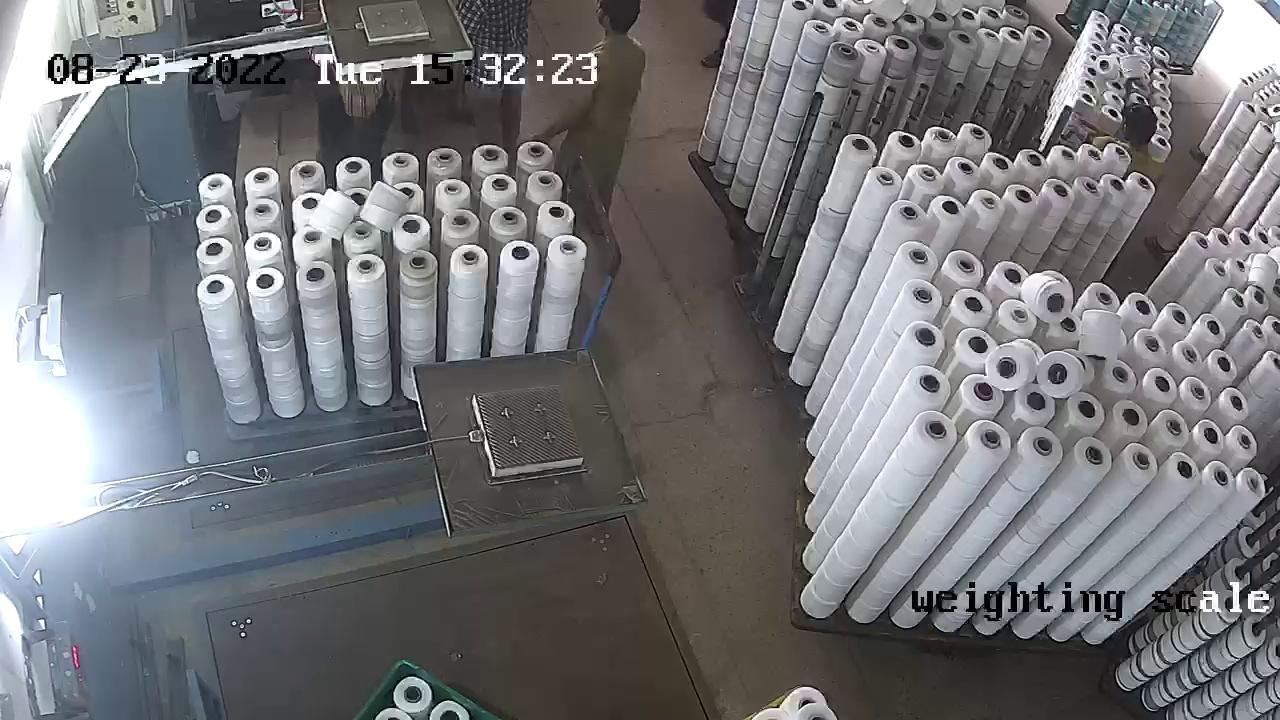person: (576, 0, 636, 242)
